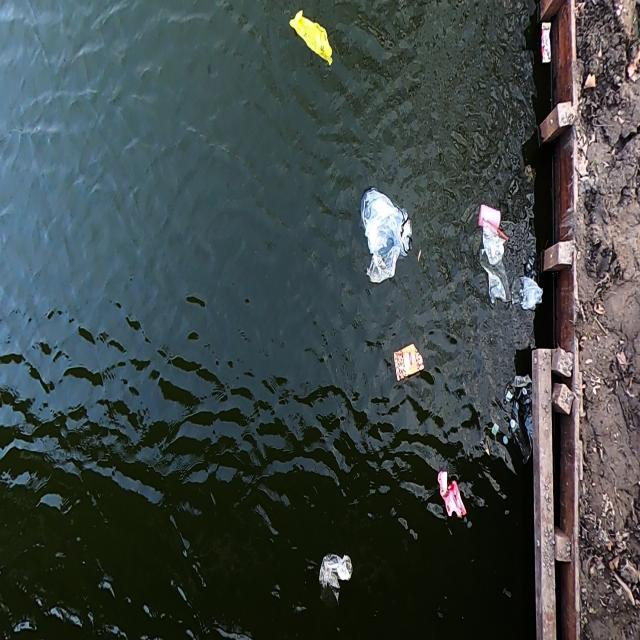Autre plastique: (392, 339, 425, 386), (473, 203, 501, 231), (538, 18, 552, 69)
Sac plastique: (354, 180, 418, 293), (493, 373, 535, 475), (286, 5, 336, 75), (314, 548, 359, 601), (434, 468, 471, 532), (480, 270, 516, 310), (512, 274, 546, 314), (477, 228, 511, 263)
